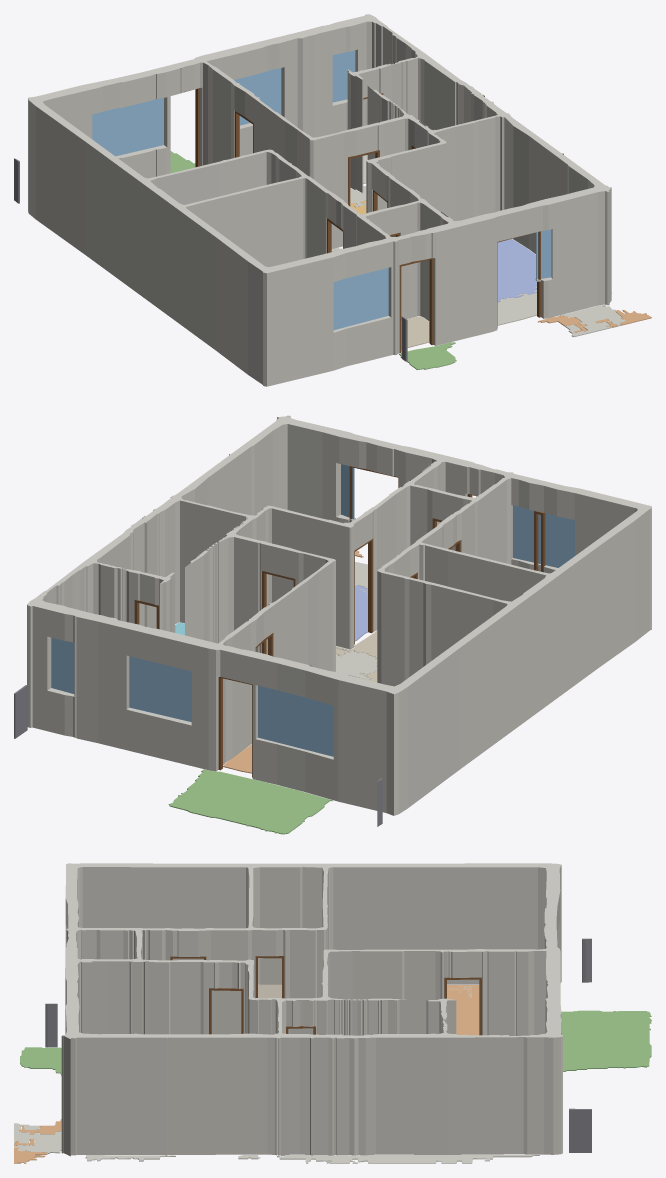
3 renders of one model, top to bottom at view 1: azimuth 30°, elevation 25°; view 2: azimuth 150°, elevation 25°; view 3: azimuth 270°, elevation 25°, orthographic. The views are drawn at different scales.
Parts seen in each view (by area): view 1: walls, window_14, window_15, floor_11_Bed_Room, window_12, floor_19_Undefined, floor_21_Undefined, floor_0_Outdoor, window_13, door_11, window_16, floor_16_Entry (+1 smaller); view 2: walls, floor_1_Outdoor, window_14, window_12, window_15, window_13, floor_25_Undefined, railings, floor_11_Bed_Room, floor_17_Entry, window_16, door_0; view 3: walls, floor_1_Outdoor, railings, floor_28_Undefined, floor_8_Living_Room, floor_19_Undefined, floor_0_Outdoor.
Boxes of the visible parts, bbox=[...] form: walls: bbox=[28, 14, 611, 386]; window_14: bbox=[92, 98, 163, 156]; window_15: bbox=[333, 268, 388, 329]; floor_11_Bed_Room: bbox=[497, 239, 536, 302]; window_12: bbox=[234, 68, 281, 125]; floor_19_Undefined: bbox=[557, 304, 625, 337]; floor_21_Undefined: bbox=[497, 286, 536, 325]; floor_0_Outdoor: bbox=[399, 342, 456, 370]; window_13: bbox=[332, 50, 355, 102]; door_11: bbox=[399, 258, 433, 352]; window_16: bbox=[536, 229, 551, 279]; floor_16_Entry: bbox=[401, 316, 429, 349]; walls: bbox=[27, 415, 651, 815]; floor_1_Outdoor: bbox=[168, 769, 332, 834]; window_14: bbox=[258, 686, 333, 756]; window_12: bbox=[129, 656, 191, 721]; window_15: bbox=[513, 505, 574, 567]; window_13: bbox=[51, 637, 74, 693]; floor_25_Undefined: bbox=[266, 647, 377, 679]; railings: bbox=[14, 685, 382, 826]; floor_11_Bed_Room: bbox=[355, 585, 367, 641]; floor_17_Entry: bbox=[266, 631, 377, 682]; window_16: bbox=[341, 464, 354, 518]; door_0: bbox=[218, 677, 252, 777]; walls: bbox=[61, 863, 562, 1156]; floor_1_Outdoor: bbox=[561, 1010, 651, 1071]; railings: bbox=[45, 938, 591, 1152]; floor_28_Undefined: bbox=[277, 1155, 539, 1163]; floor_8_Living_Room: bbox=[447, 985, 479, 1035]; floor_19_Undefined: bbox=[14, 1123, 61, 1153]; floor_0_Outdoor: bbox=[20, 1047, 61, 1075].
Bounding box in the file's own units: 9.01 × 2.72 × 13.32.
